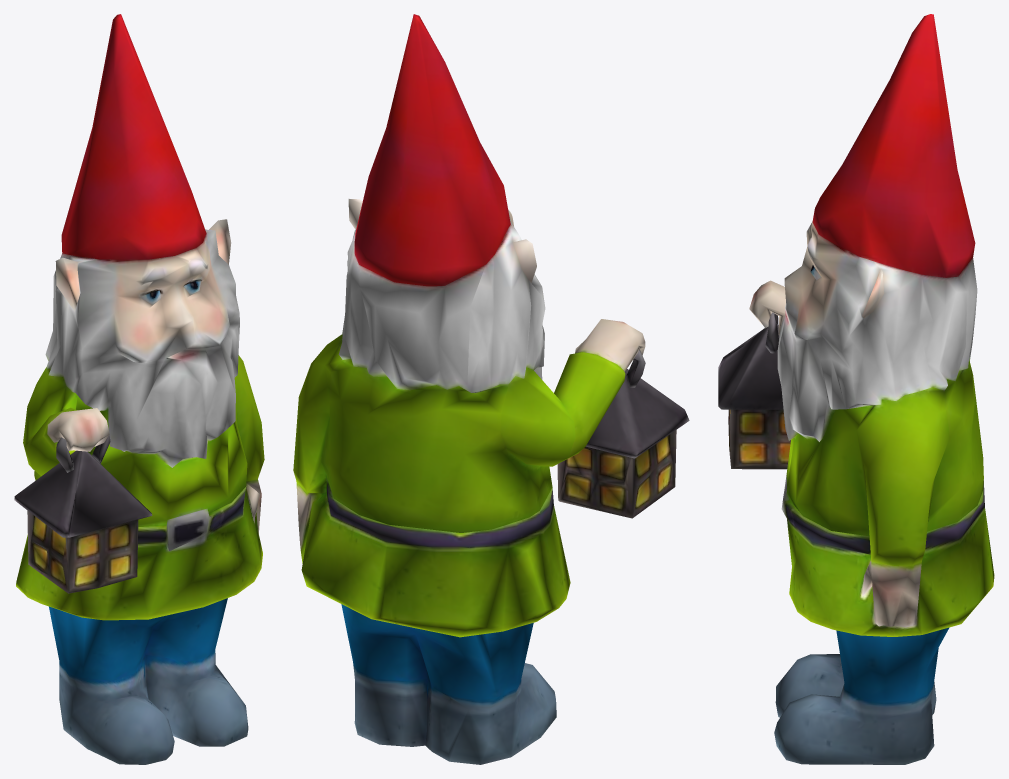
Rendered from scene-gnome.glb.
3 renders of one model, left to right at view 1: azimuth 30°, elevation 25°; view 2: azimuth 150°, elevation 25°; view 3: azimuth 270°, elevation 25°, orthographic. The views are drawn at different scales.
Visible parts, largest first — view 1: garden_gnome; view 2: garden_gnome; view 3: garden_gnome.
Part boxes in pixels (x1,y1,x2,y2): garden_gnome: (14, 14, 264, 764); garden_gnome: (293, 14, 689, 764); garden_gnome: (718, 14, 994, 764).
Size of the model in its own units: 0.2553 by 0.5983 by 0.2087.
Materials: 1 (1 with a texture image).
